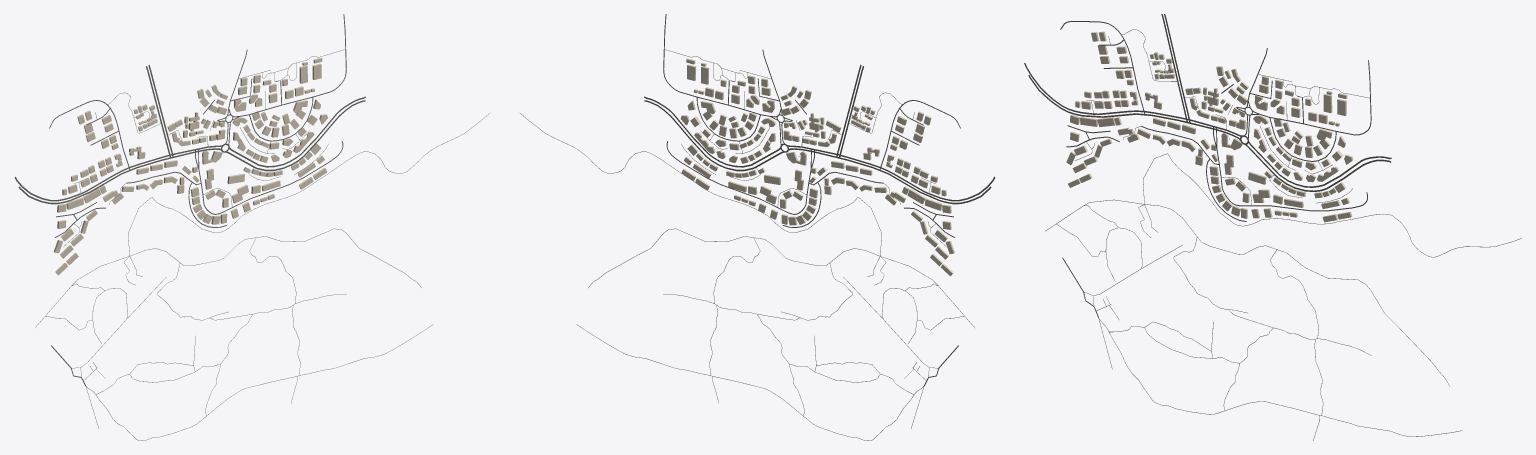
File: historic-palestine-08_26_3495_3204.glb
The picture shows the model from 3 angles, left to right: view 1: azimuth 30°, elevation 25°; view 2: azimuth 150°, elevation 25°; view 3: azimuth 330°, elevation 25°; orthographic projection. The views are drawn at different scales.
Visible parts, largest first — view 1: Road רבן יוחנן בן זכאי.001; view 2: Road רבן יוחנן בן זכאי.001; view 3: Road רבן יוחנן בן זכאי.001, Road רבן יוחנן בן זכאי.
Part boxes in pixels (<box>): Road רבן יוחנן בן זכאי.001: <box>14,145,222,201</box>; Road רבן יוחנן בן זכאי.001: <box>787,145,995,201</box>; Road רבן יוחנן בן זכאי.001: <box>1024,63,1242,136</box>; Road רבן יוחנן בן זכאי: <box>1028,75,1240,140</box>.
Size of the model in its own units: 1697 by 1288 by 13.6.
